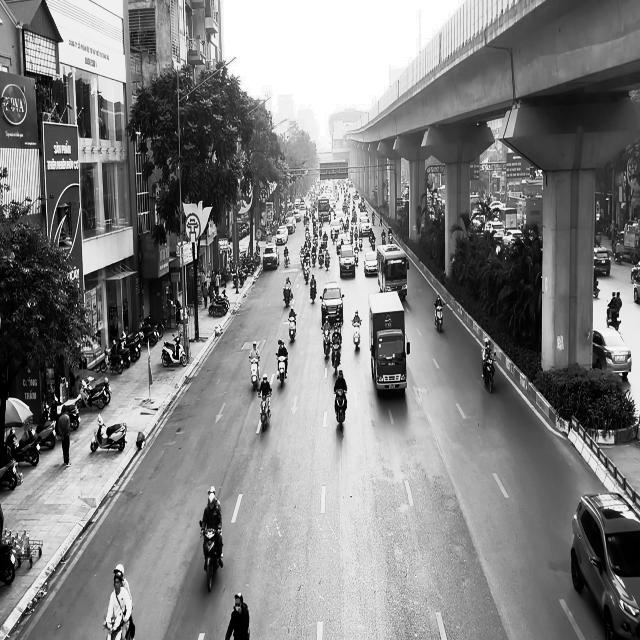bus: (376, 243, 408, 300)
car: (570, 492, 640, 639), (592, 327, 632, 379)
motorbike: (200, 522, 223, 592), (90, 413, 127, 452), (160, 334, 187, 366), (481, 350, 496, 393), (258, 388, 272, 432), (333, 388, 347, 430), (606, 302, 621, 331), (276, 353, 288, 388), (249, 354, 260, 390), (433, 300, 445, 332), (330, 342, 341, 376), (322, 326, 331, 358), (352, 319, 361, 349), (288, 313, 297, 342)
truck: (368, 290, 410, 396)
